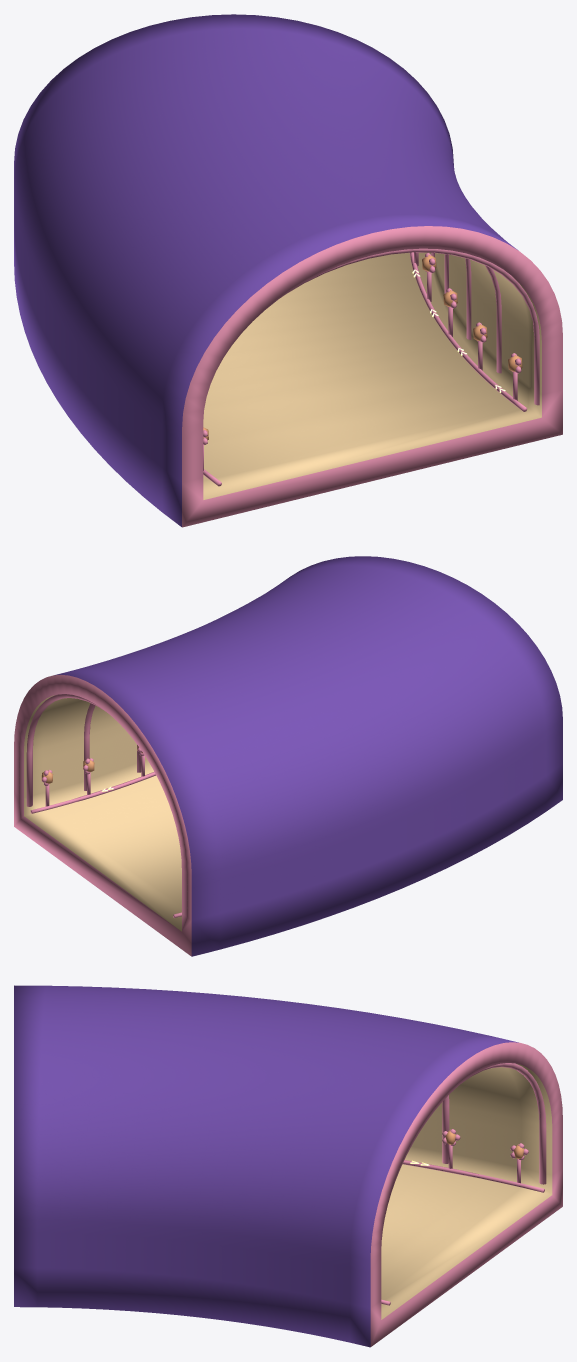
The model's file is curve_right_30_lod1.glb.
3 renders of one model, top to bottom at view 1: azimuth 30°, elevation 25°; view 2: azimuth 150°, elevation 25°; view 3: azimuth 270°, elevation 25°, orthographic. The views are drawn at different scales.
Parts seen in each view (by area): view 1: TunnelGeometry.001; view 2: TunnelGeometry.001; view 3: TunnelGeometry.001.
Part boxes in pixels (<box>): TunnelGeometry.001: <box>14,14,562,527</box>; TunnelGeometry.001: <box>14,556,562,956</box>; TunnelGeometry.001: <box>14,985,562,1347</box>.
Bounding box in the file's own units: 19.1 × 9.52 × 21.83.
Materials: 5 (2 with a texture image).
